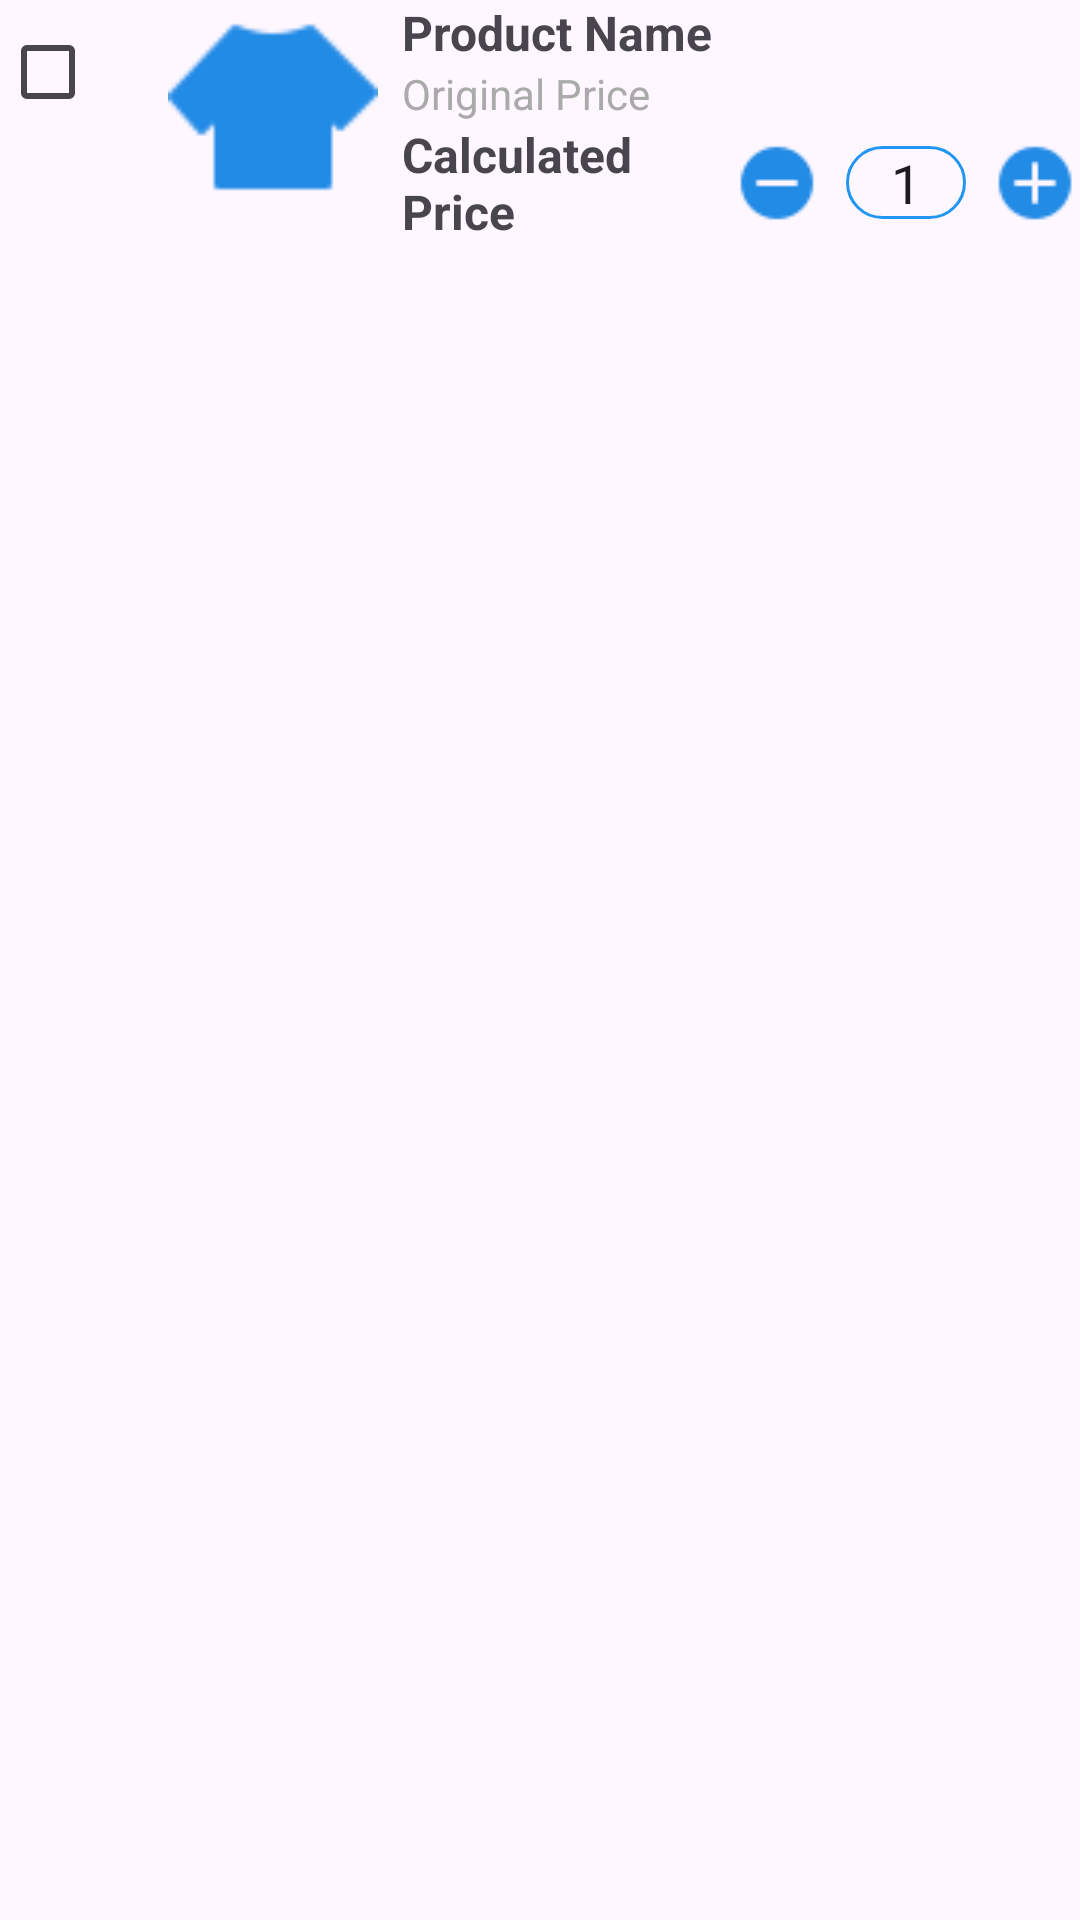

Locate icon controls on the screen. Image size 1080w x 1920h, boxes as (x1, y1, x2, y2).
minus: (740, 146, 814, 220)
plus: (998, 146, 1072, 220)
